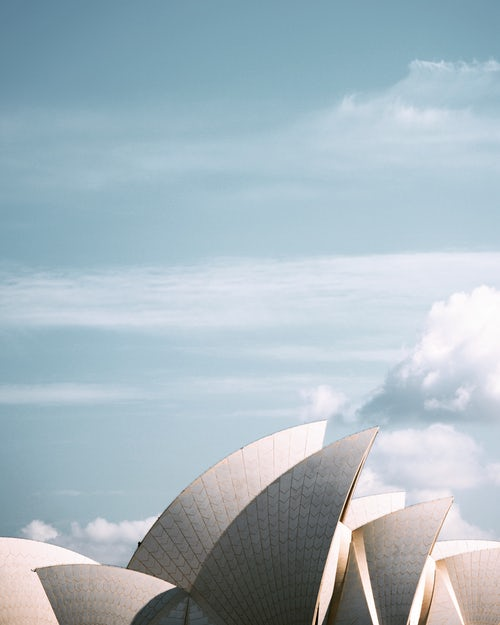opera house: (1, 393, 493, 625)
